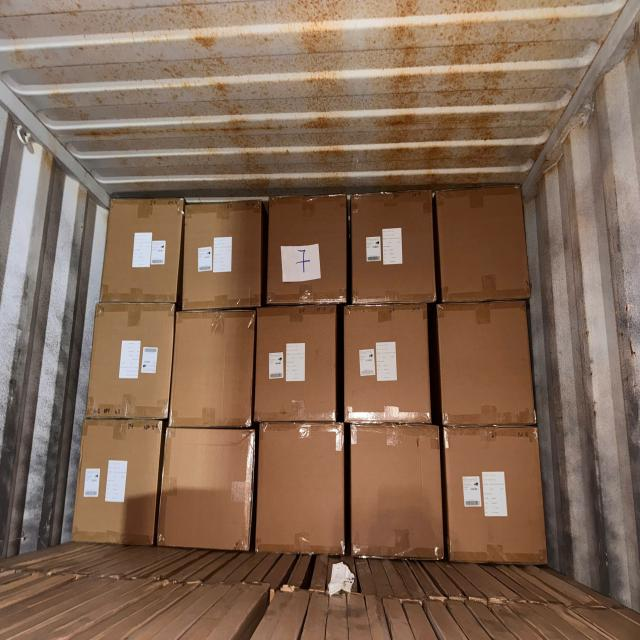Carton: (447, 425, 547, 564), (348, 422, 439, 562), (439, 300, 537, 426), (256, 424, 343, 558), (163, 428, 254, 552), (75, 420, 163, 546), (439, 190, 531, 306), (340, 306, 428, 426), (88, 306, 174, 420), (257, 305, 339, 422), (350, 194, 434, 307), (174, 310, 254, 427), (183, 204, 263, 314), (268, 194, 346, 305), (102, 201, 180, 307)
